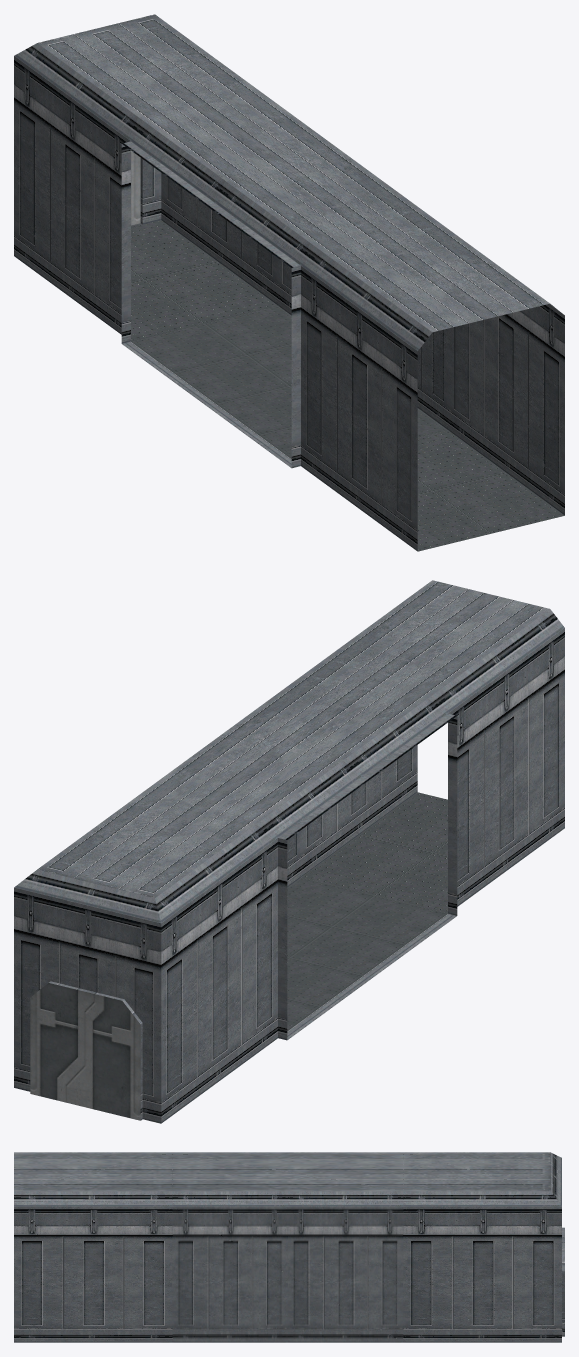
Rendered from thm_nboo_thed_emp_retreat_r20_hall7_mesh_r20.fbx.
3 renders of one model, top to bottom at view 1: azimuth 30°, elevation 25°; view 2: azimuth 150°, elevation 25°; view 3: azimuth 270°, elevation 25°, orthographic. The views are drawn at different scales.
Visible parts, largest first — view 1: mesh_node; view 2: mesh_node; view 3: mesh_node.
Part boxes in pixels (box(x1,y1,x2,y2)): mesh_node: box(14, 14, 564, 551); mesh_node: box(14, 580, 564, 1123); mesh_node: box(14, 1152, 564, 1342).
Bounding box in the file's own units: 4.25 × 5.6 × 19.1.
